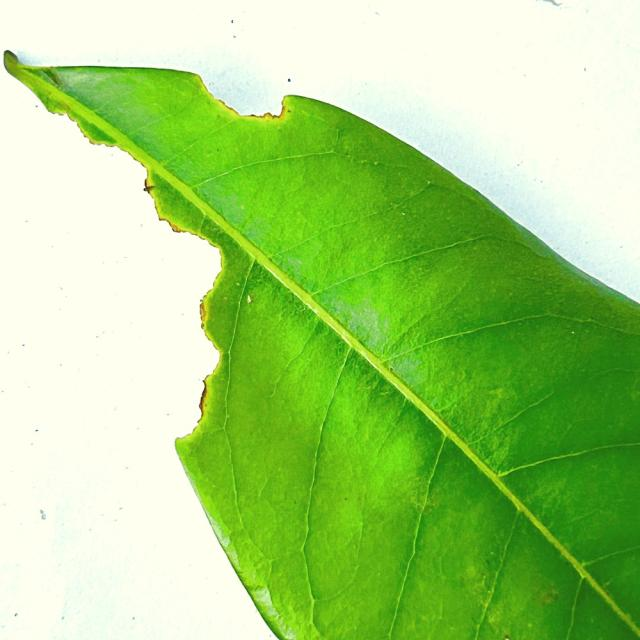Deficiency Leaf: (42, 179, 186, 451), (157, 57, 291, 118)
Lychee: (5, 52, 639, 639)
